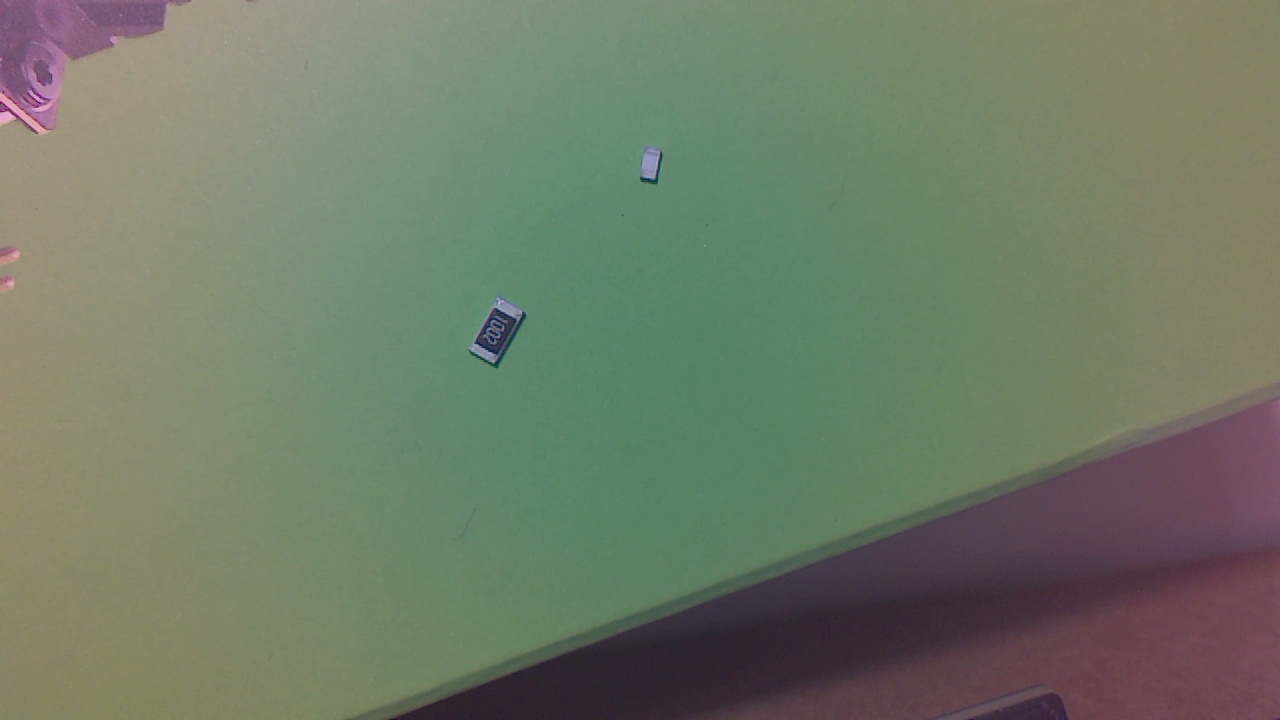Resistor: (474, 302, 534, 372)
